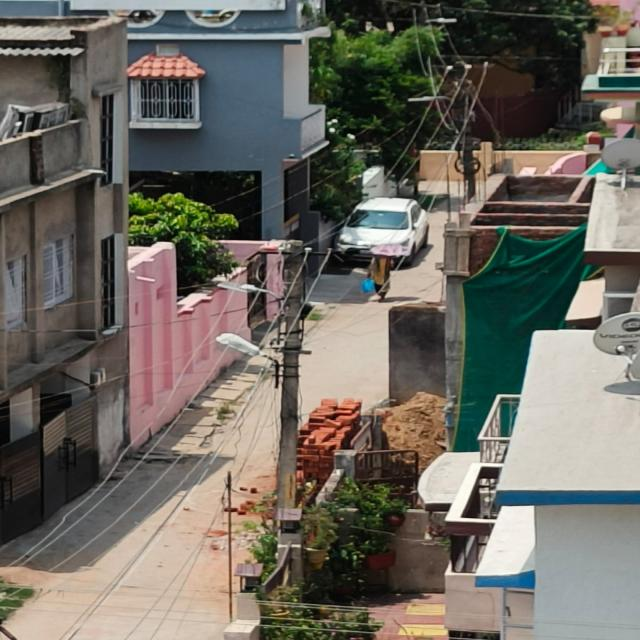car: (330, 192, 431, 276)
